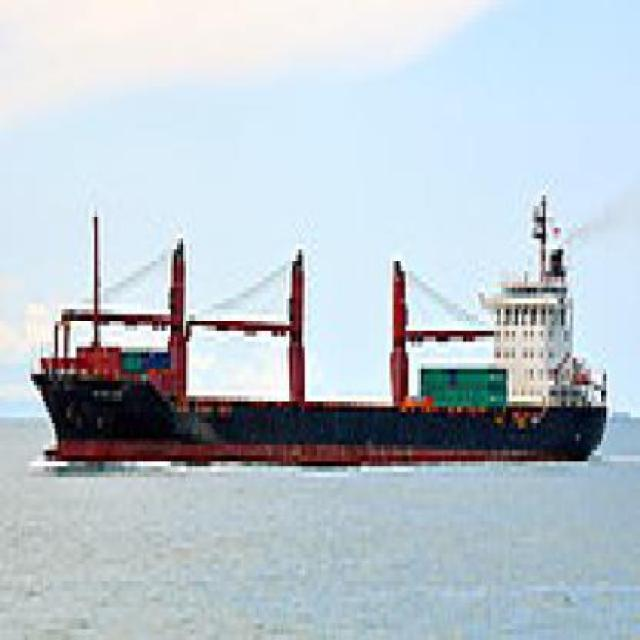container: (22, 175, 617, 484)
